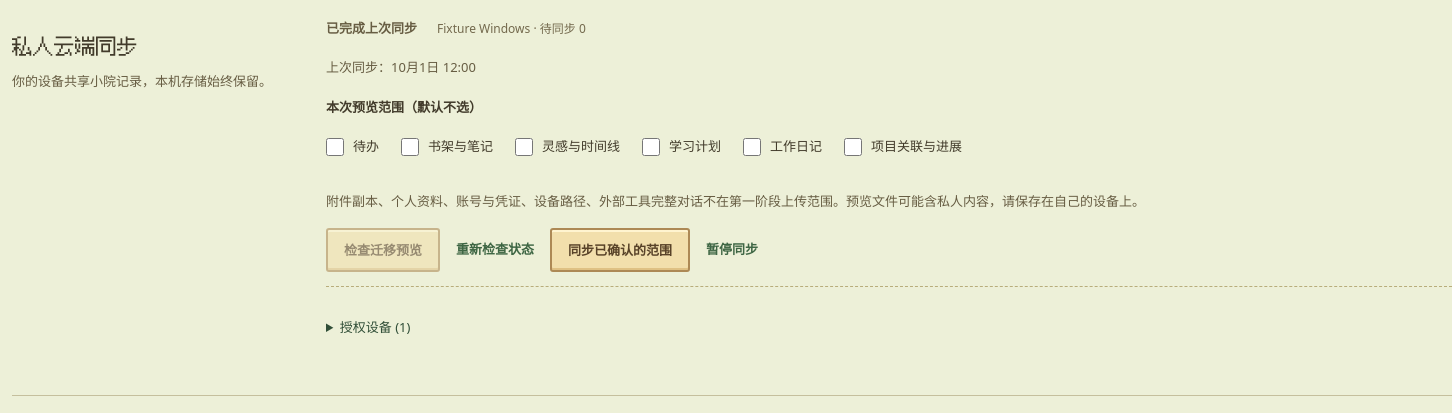
it: private sync review boundaries › updates to offline status despite device-list failure and labels the last sync as historical
The width and height of the screenshot is (1452, 413).
Click the button "重新检查状态" at (495, 250), box [456,231,534,268]
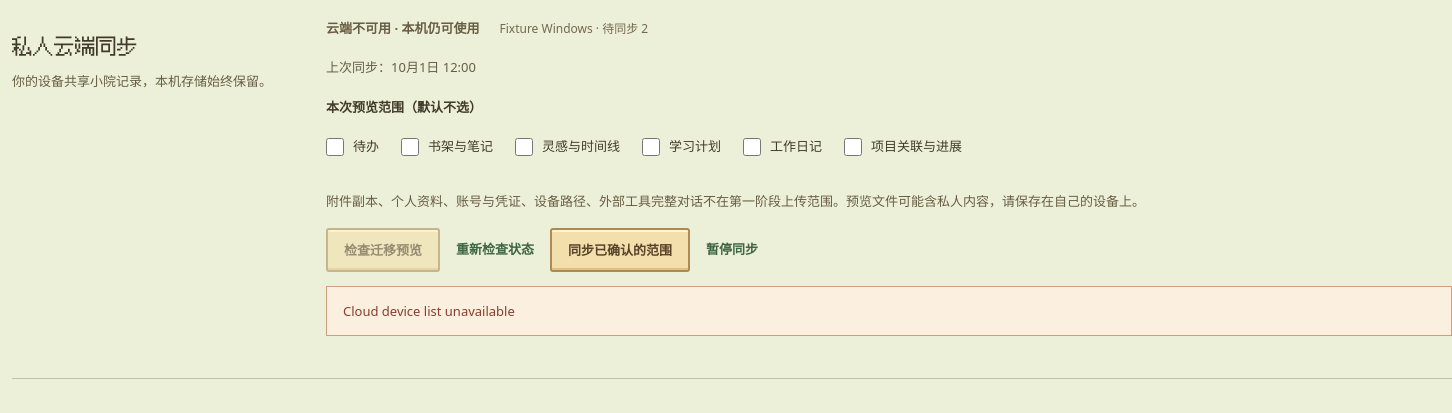
Result: the text "云端不可用 · 本机仍可使用" is shown at [326,16,480,41]
Result: the text "待同步 2" is shown at [500,18,648,41]
Result: the text "已完成上次同步" is gone
